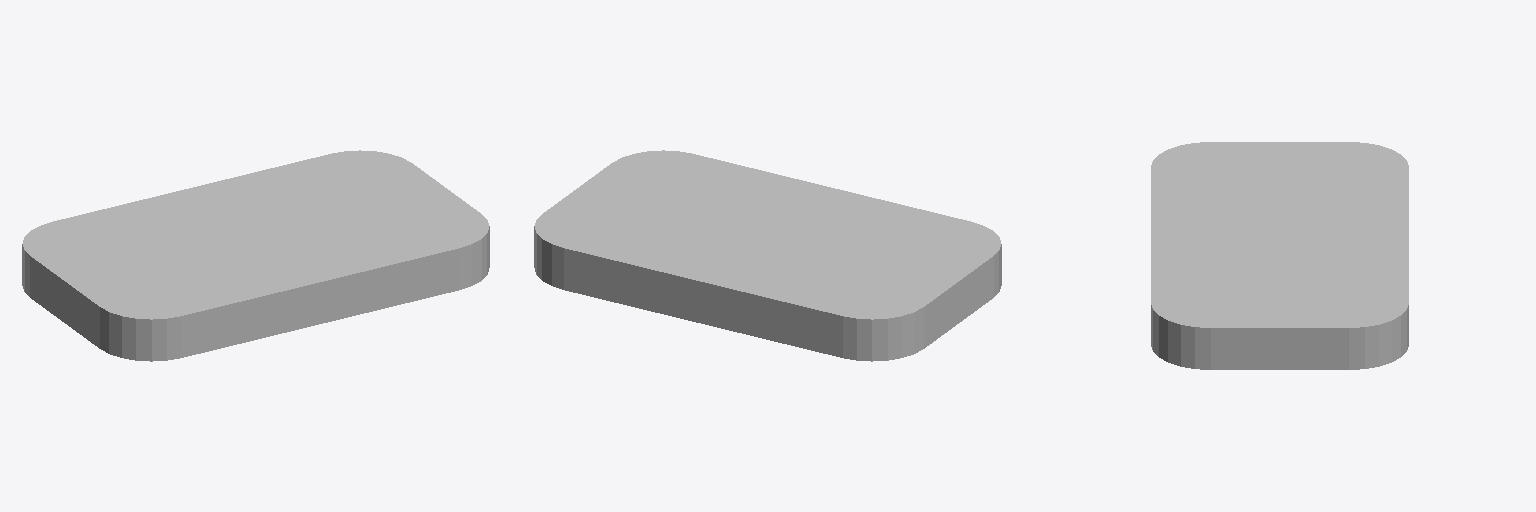
Rendered from original-20.obj.
3 views of the same model, side by side, from view 1: azimuth 30°, elevation 25°; view 2: azimuth 150°, elevation 25°; view 3: azimuth 270°, elevation 25° (orthographic).
Parts seen in each view (by area): view 1: mesh19/mesh19-geometry#mesh19-geometry; view 2: mesh19/mesh19-geometry#mesh19-geometry; view 3: mesh19/mesh19-geometry#mesh19-geometry.
Part boxes in pixels (bbox=[...]): mesh19/mesh19-geometry#mesh19-geometry: bbox=[22, 150, 489, 361]; mesh19/mesh19-geometry#mesh19-geometry: bbox=[534, 150, 1001, 361]; mesh19/mesh19-geometry#mesh19-geometry: bbox=[1151, 142, 1408, 369].
Size of the model in its own units: 0.0609 by 0.0064 by 0.0357.